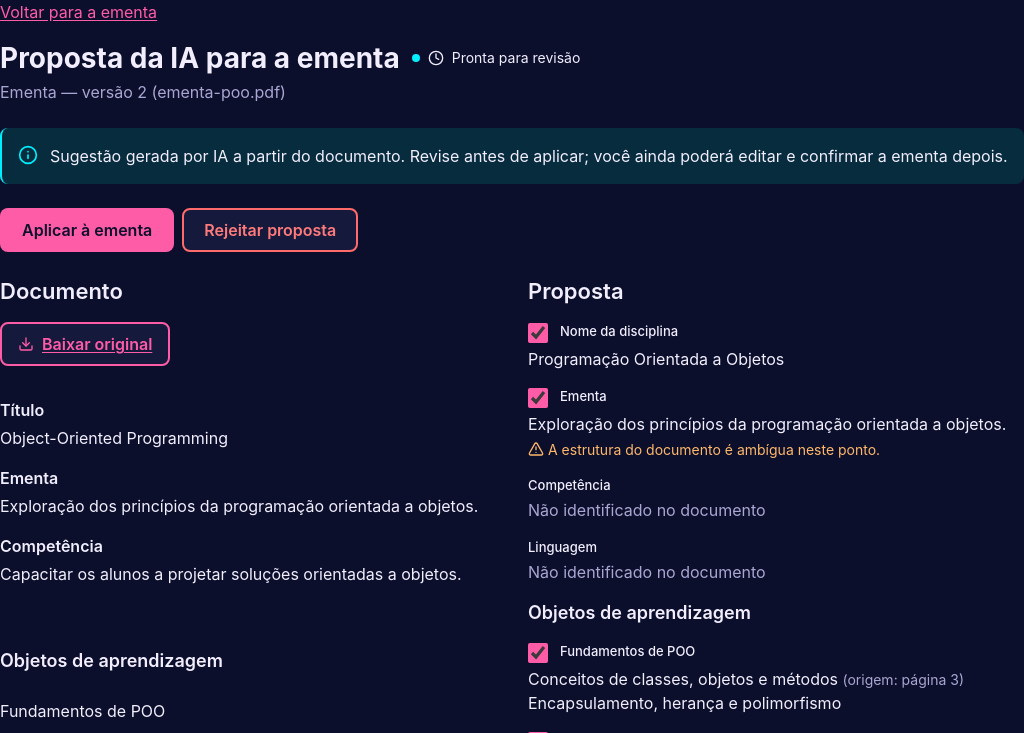
Test case: 007/US3 CurriculumProposalReview — revisar a proposta e aplicar à ementa › um erro da API aparece pelo catálogo, e a página continua na proposta
Click the button "Aplicar à ementa". click: (87, 230)
box: top-left (0, 208), bottom-right (174, 252)
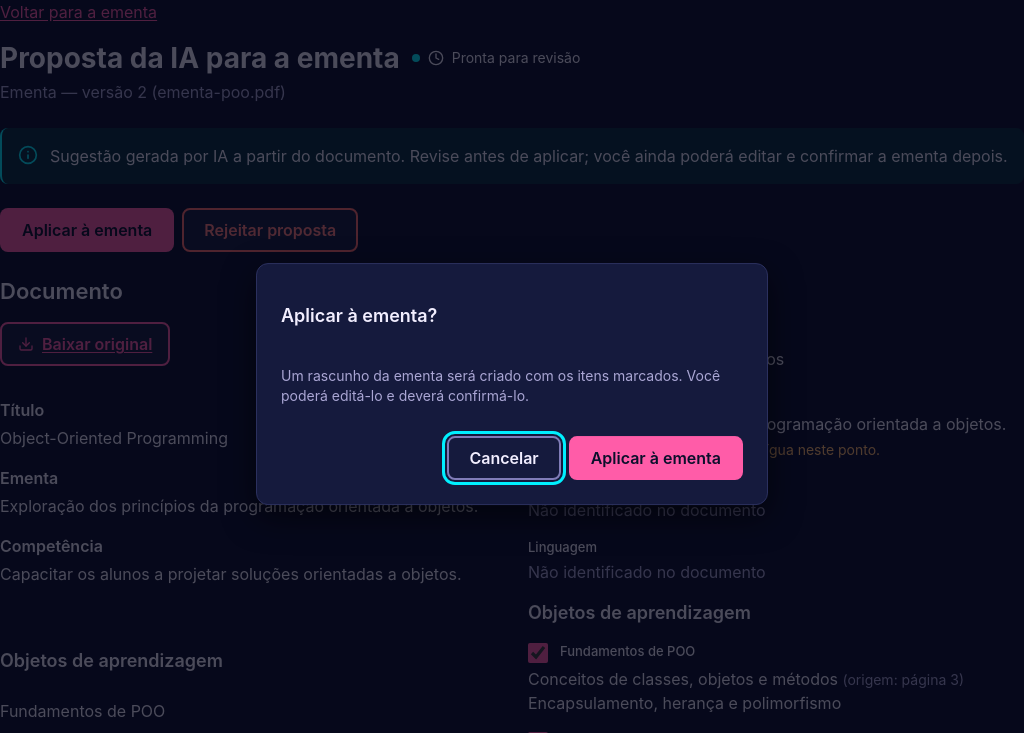
Click the button "Aplicar à ementa". click: (656, 458)
box: top-left (569, 436), bottom-right (743, 480)
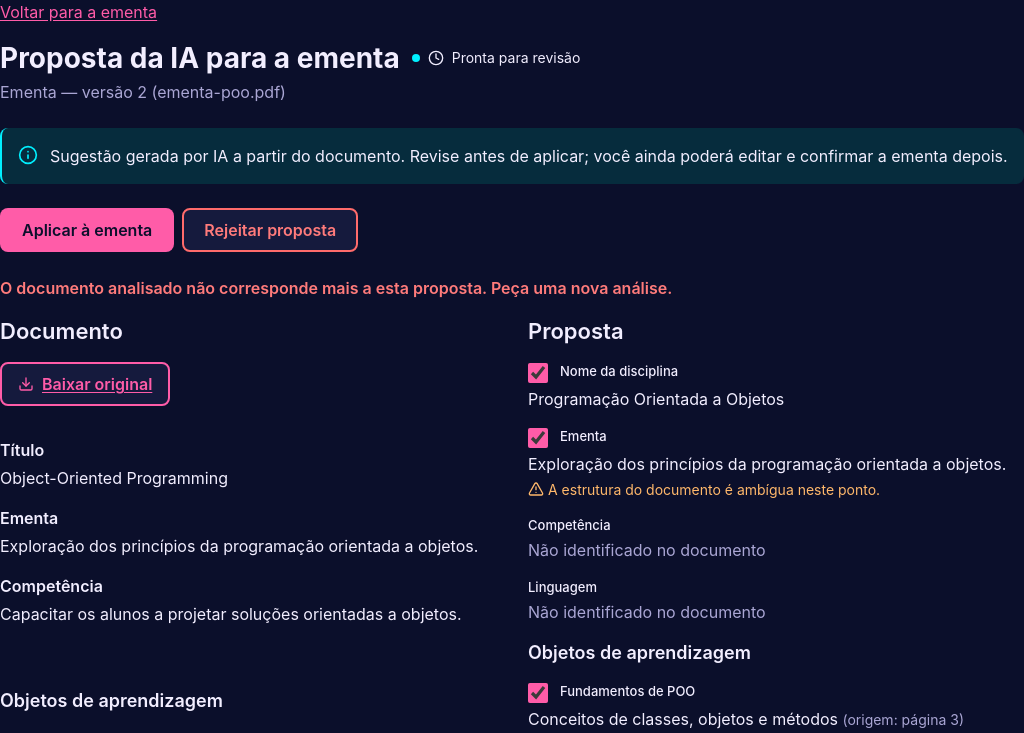
Now the 2nd message shows "O documento analisado não corresponde mais a esta proposta. Peça uma nova análise.", box top-left (0, 278), bottom-right (672, 298)
